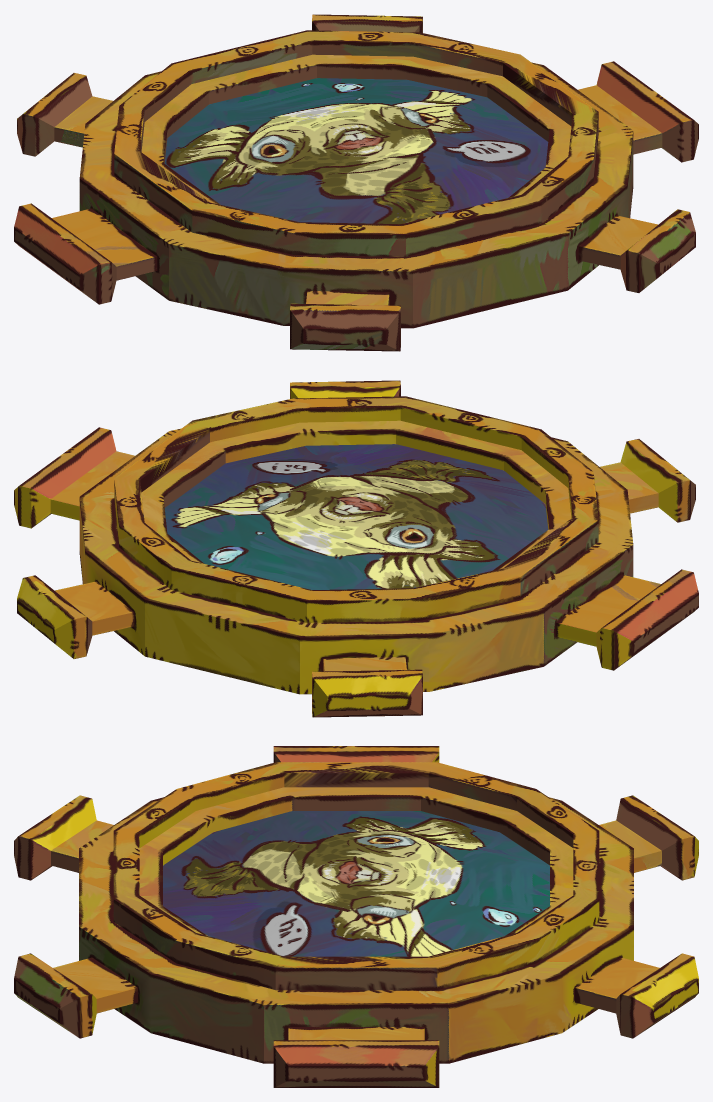
File: Porthole_Window.fbx
3 views of the same model, one above another, from view 1: azimuth 30°, elevation 25°; view 2: azimuth 150°, elevation 25°; view 3: azimuth 270°, elevation 25° (orthographic). The views are drawn at different scales.
Parts seen in each view (by area): view 1: Porthole_Window; view 2: Porthole_Window; view 3: Porthole_Window.
Part boxes in pixels (x1,y1,x2,y2): Porthole_Window: (14, 14, 698, 351); Porthole_Window: (14, 380, 698, 717); Porthole_Window: (14, 746, 698, 1087).
Size of the model in its own units: 1.52 by 0.1845 by 1.41.
Materials: 1 (1 with a texture image).
